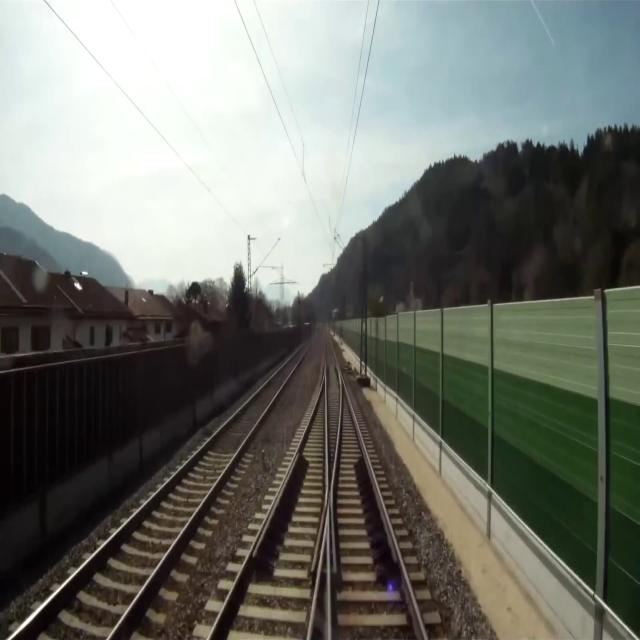rail-track: (15, 342, 309, 639), (212, 386, 324, 639), (330, 386, 423, 639), (326, 339, 339, 483)
